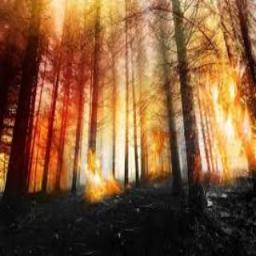Large fire: (0, 0, 255, 182)
